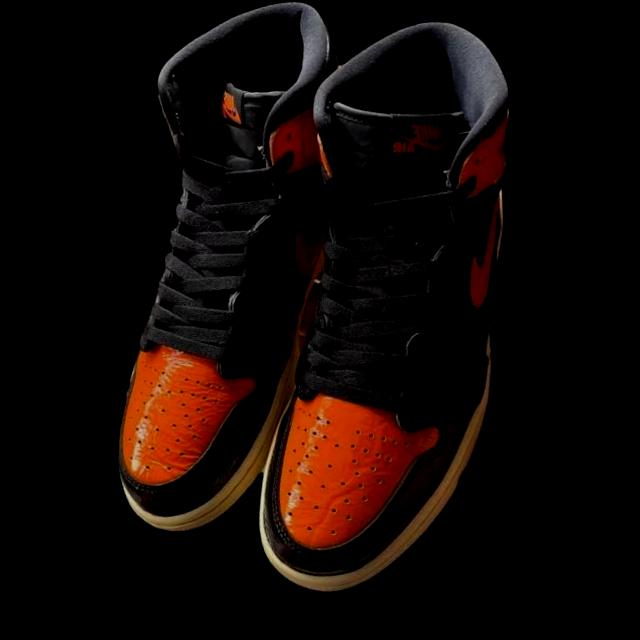nike_original_jordan: (170, 9, 584, 607), (35, 0, 406, 545)
